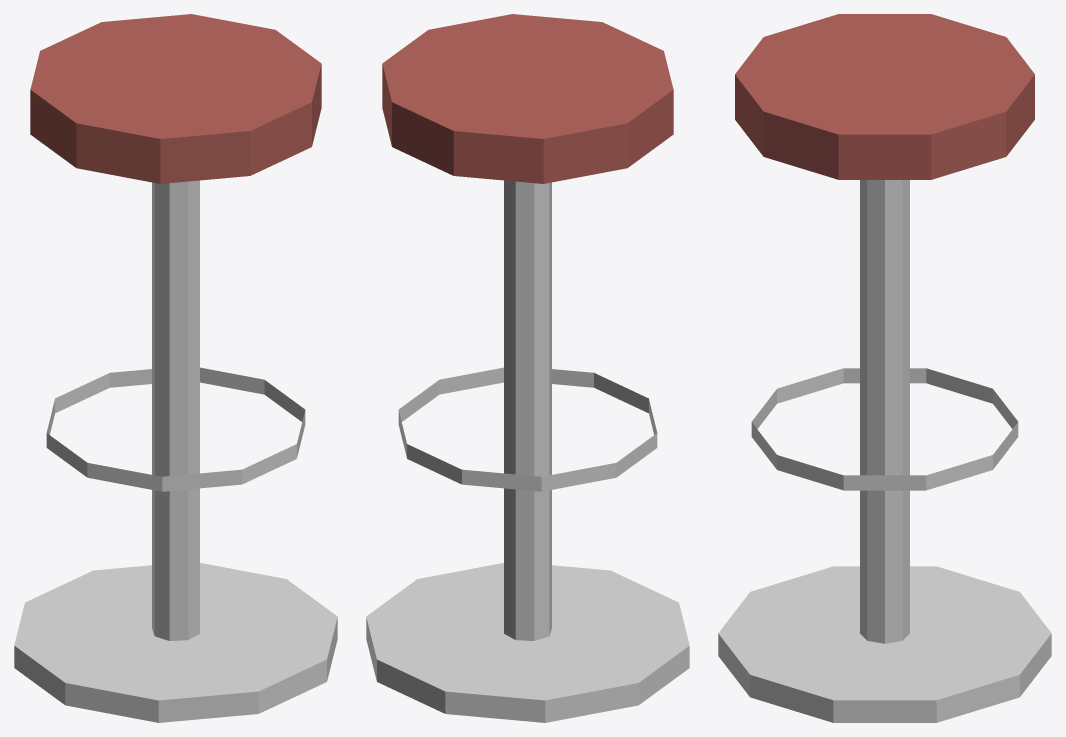
Rendered from bar_stool.glb.
3 views of the same model, side by side, from view 1: azimuth 30°, elevation 25°; view 2: azimuth 150°, elevation 25°; view 3: azimuth 270°, elevation 25° (orthographic).
Visible parts, largest first — view 1: bar_stool; view 2: bar_stool; view 3: bar_stool.
Boxes of the visible parts, x1,y1,x2,y2 form: bar_stool: (14, 14, 337, 722); bar_stool: (366, 14, 689, 722); bar_stool: (718, 14, 1051, 722).
Size of the model in its own units: 0.3804 by 0.77 by 0.4.
